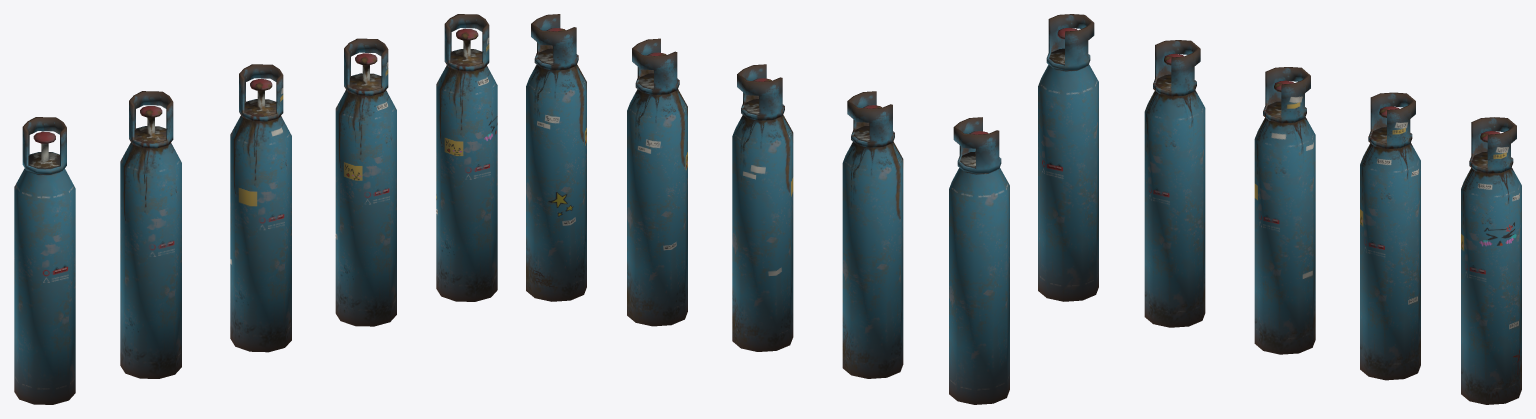
The model's file is GasTanks.fbx.
3 views of the same model, side by side, from view 1: azimuth 30°, elevation 25°; view 2: azimuth 150°, elevation 25°; view 3: azimuth 330°, elevation 25° (orthographic).
Visible parts, largest first — view 1: oxygen_tank_05, oxygen_tank_04, oxygen_tank_03, oxygen_tank_02, oxygen_tank_01; view 2: oxygen_tank_03, oxygen_tank_02, oxygen_tank_01, oxygen_tank_05, oxygen_tank_04; view 3: oxygen_tank_02, oxygen_tank_03, oxygen_tank_01, oxygen_tank_04, oxygen_tank_05.
Boxes of the visible parts, bbox=[...] form: oxygen_tank_05: bbox=[436, 14, 497, 301]; oxygen_tank_04: bbox=[335, 38, 396, 326]; oxygen_tank_03: bbox=[230, 64, 291, 352]; oxygen_tank_02: bbox=[120, 91, 181, 378]; oxygen_tank_01: bbox=[14, 117, 75, 404]; oxygen_tank_03: bbox=[732, 64, 793, 351]; oxygen_tank_02: bbox=[842, 91, 903, 378]; oxygen_tank_01: bbox=[949, 117, 1009, 404]; oxygen_tank_05: bbox=[526, 14, 586, 301]; oxygen_tank_04: bbox=[627, 38, 687, 326]; oxygen_tank_02: bbox=[1144, 40, 1205, 327]; oxygen_tank_03: bbox=[1254, 67, 1315, 354]; oxygen_tank_01: bbox=[1038, 14, 1098, 301]; oxygen_tank_04: bbox=[1360, 92, 1420, 380]; oxygen_tank_05: bbox=[1461, 117, 1521, 404].
Size of the model in its own units: 273 by 146 by 29.61.
